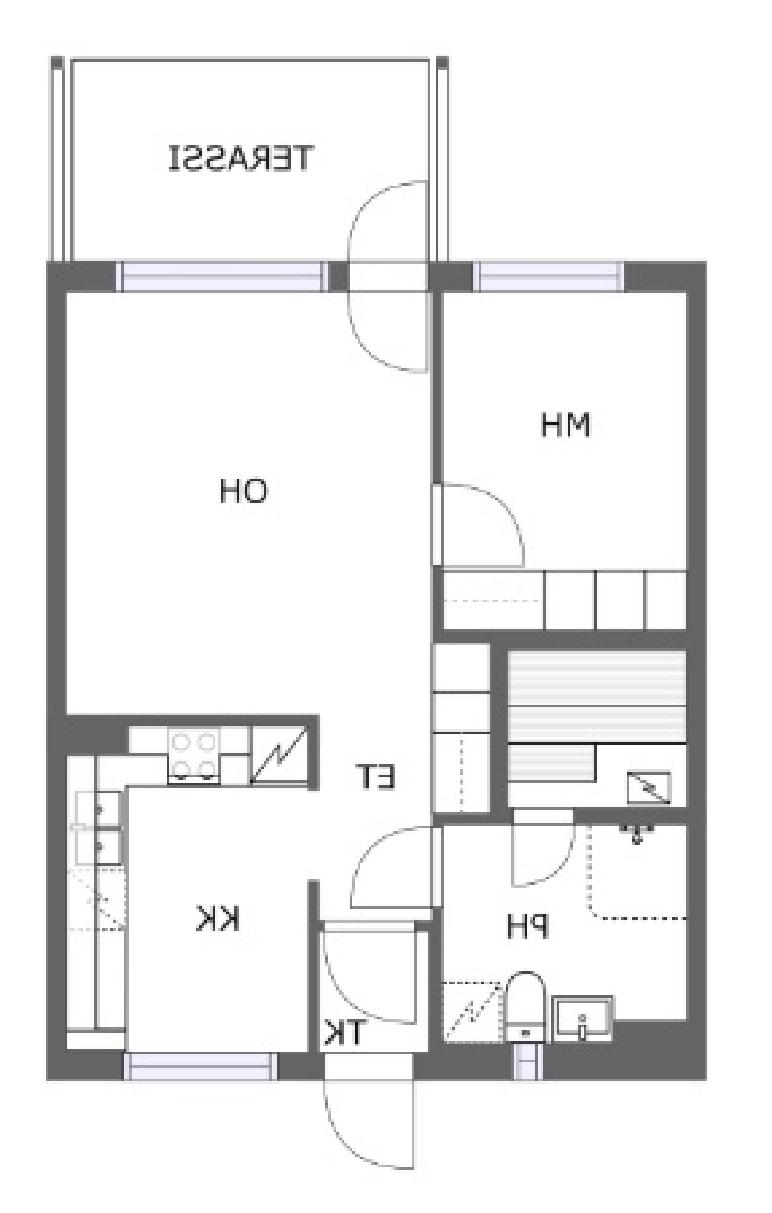door: (330, 181, 431, 371), (312, 1048, 423, 1183), (323, 921, 427, 1030), (344, 812, 445, 911), (423, 485, 531, 567), (511, 804, 577, 885)
window: (121, 256, 329, 292), (471, 257, 623, 295), (127, 1048, 275, 1081), (509, 1040, 546, 1077)
zone: (67, 290, 429, 1049), (434, 293, 691, 636), (71, 57, 429, 260), (444, 821, 689, 1036), (499, 651, 682, 803)
